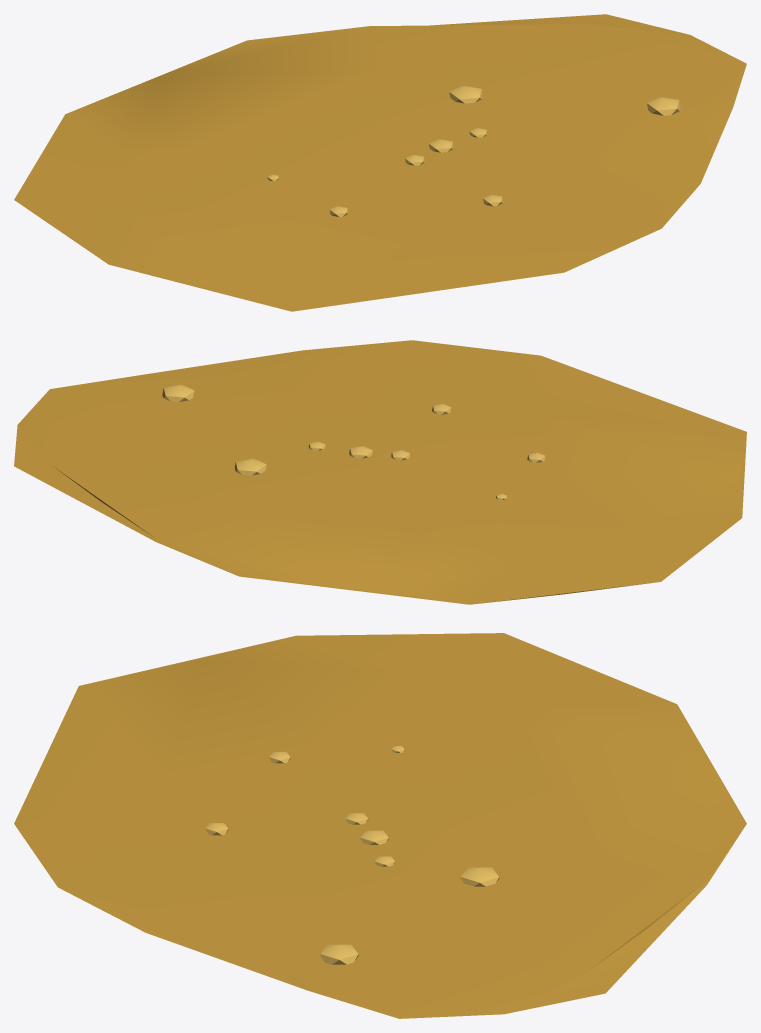
File: grease_pool.glb
3 renders of one model, top to bottom at view 1: azimuth 30°, elevation 25°; view 2: azimuth 150°, elevation 25°; view 3: azimuth 270°, elevation 25°, orthographic. The views are drawn at different scales.
Visible parts, largest first — view 1: grease_pool; view 2: grease_pool; view 3: grease_pool.
Part boxes in pixels (box(x1,y1,x2,y2)): grease_pool: box(14, 14, 746, 311); grease_pool: box(14, 340, 746, 604); grease_pool: box(14, 633, 746, 1018).
Size of the model in its own units: 8.06 by 0.1985 by 6.44.
